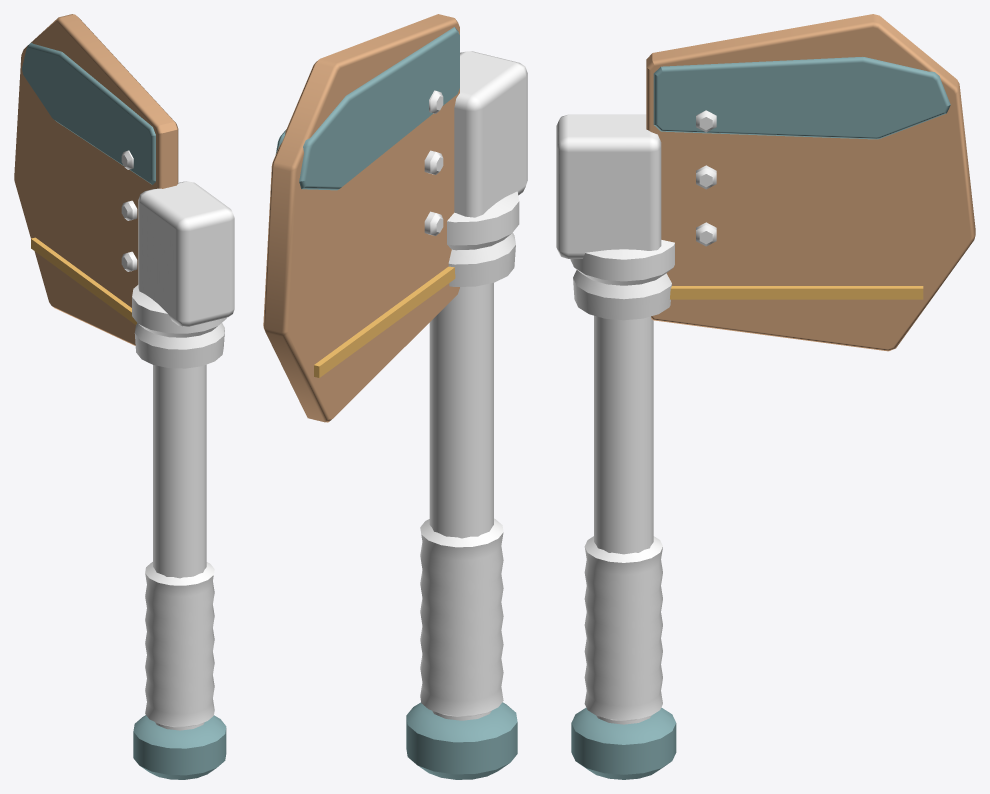
Rendered from ScrapCleaver.glb.
The picture shows the model from 3 angles, left to right: view 1: azimuth 30°, elevation 25°; view 2: azimuth 150°, elevation 25°; view 3: azimuth 270°, elevation 25°; orthographic projection. The views are drawn at different scales.
Parts seen in each view (by area): view 1: Base, Primary, AccentTrim, AccentGlow; view 2: Base, Primary, AccentTrim, AccentGlow; view 3: Primary, Base, AccentTrim, AccentGlow.
Boxes of the visible parts, x1=… form: Base: x1=121, y1=150, x2=234, y2=730; Primary: x1=14, y1=14, x2=178, y2=345; AccentTrim: x1=22, y1=42, x2=226, y2=779; AccentGlow: x1=31, y1=237, x2=136, y2=324; Base: x1=420, y1=51, x2=527, y2=720; Primary: x1=263, y1=14, x2=459, y2=422; AccentTrim: x1=275, y1=27, x2=517, y2=779; AccentGlow: x1=314, y1=266, x2=455, y2=377; Primary: x1=646, y1=14, x2=975, y2=351; Base: x1=556, y1=110, x2=716, y2=724; AccentTrim: x1=571, y1=57, x2=950, y2=779; AccentGlow: x1=670, y1=286, x2=923, y2=299.
Size of the model in its own units: 0.72 by 5.5 by 2.8.
